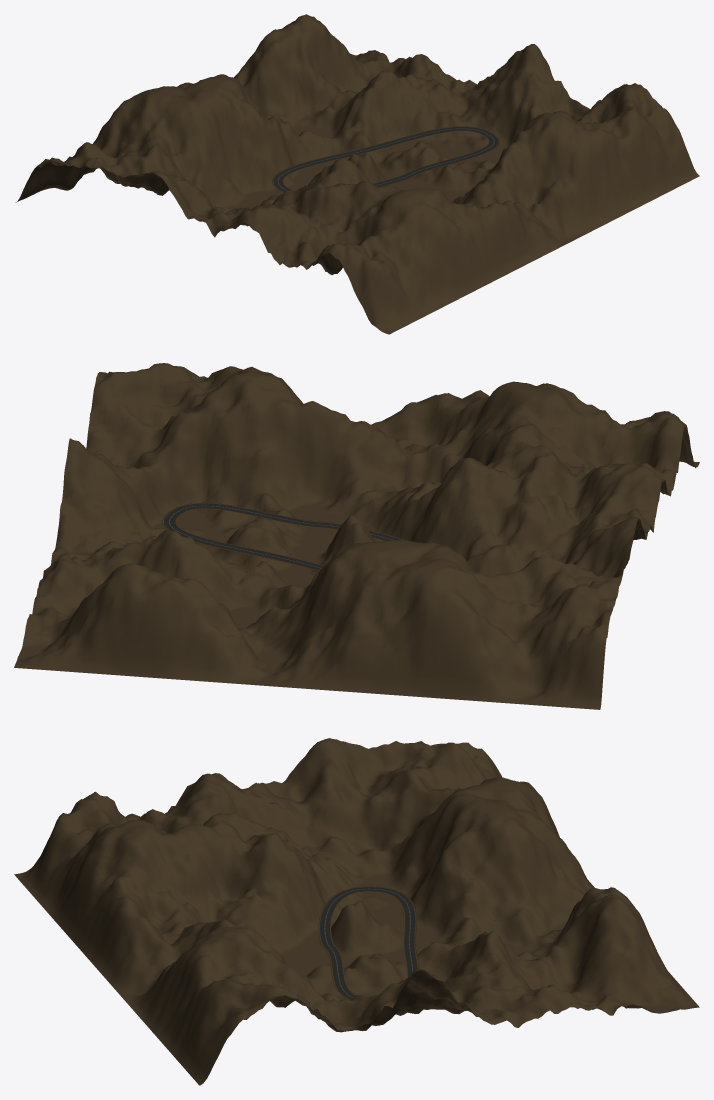
File: racetrack.glb
3 renders of one model, top to bottom at view 1: azimuth 30°, elevation 25°; view 2: azimuth 150°, elevation 25°; view 3: azimuth 270°, elevation 25°, orthographic. The views are drawn at different scales.
Visible parts, largest first — view 1: Landscape.002, Plane; view 2: Landscape.002, Plane; view 3: Landscape.002, Plane.
Part boxes in pixels (x1=…): Landscape.002: x1=15, y1=14, x2=699, y2=334; Plane: x1=272, y1=126, x2=499, y2=192; Landscape.002: x1=14, y1=363, x2=699, y2=709; Plane: x1=162, y1=502, x2=403, y2=571; Landscape.002: x1=14, y1=738, x2=699, y2=1085; Plane: x1=318, y1=886, x2=418, y2=999.
Size of the model in its own units: 664 by 94.67 by 664.
2 materials, 1 textured.
